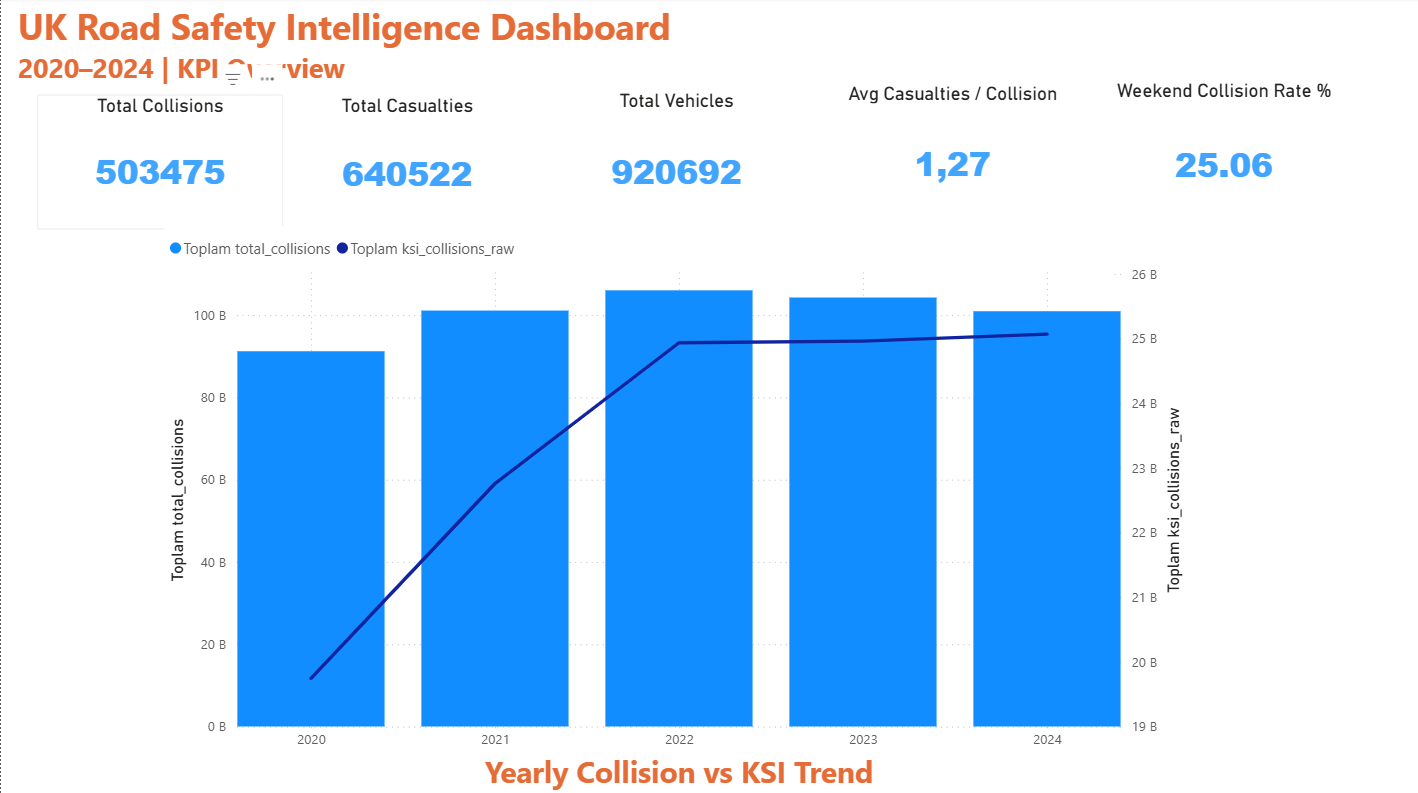

This screenshot's page, from the dashboard's own definition file:
{"tool":"powerbi","page":{"name":"KPI Overview","canvas":[1280,720],"ordinal":0},"visuals":[{"type":"textbox","box":[10.5,0,708.4,91.6],"z":0},{"type":"card","title":"  Total Collisions","fields":{"Values":["Sum(kpi_collision_overview_v1.total_collisions)"]},"box":[32.4,87.8,221.9,121.7],"z":1000},{"type":"card","title":"Total Casualties","fields":{"Values":["Sum(kpi_collision_overview_v1.total_casualties)"]},"box":[254.2,87.8,223.4,124.8],"z":2000},{"type":"card","title":"Total Vehicles","fields":{"Values":["Sum(kpi_collision_overview_v1.total_vehicles)"]},"box":[497.6,83.2,221.9,129.4],"z":3000},{"type":"card","title":"Avg Casualties / Collision","fields":{"Values":["kpi_collision_overview_v1.Avg Casualties Per Collision KPI"]},"box":[747.2,77,221.9,129.4],"z":4000},{"type":"card","title":"Weekend Collision Rate %","fields":{"Values":["Min(kpi_collision_overview_v1.weekend_collision_rate_pct)"]},"box":[992.2,74,221.9,135.6],"z":5000},{"type":"lineStackedColumnComboChart","fields":{"Category":["yearly_severity_trend_v1.collision_year"],"Y":["Sum(yearly_severity_trend_v1.total_collisions)"],"Y2":["Sum(yearly_severity_trend_v1.ksi_collisions_raw)"]},"box":[146.5,206.7,924,513.7],"z":6000}]}

Visuals, with their boxes on the page's 1280x720 design canvas (x1, y1, x2, y2). These are canvas units, not pixel positions in the 1418x793 screenshot, which may show the page scaled, cropped or inside an application window:
textbox: detection(10, 0, 719, 92)
"  Total Collisions" card: detection(32, 88, 254, 210)
"Total Casualties" card: detection(254, 88, 478, 213)
"Total Vehicles" card: detection(498, 83, 720, 213)
"Avg Casualties / Collision" card: detection(747, 77, 969, 206)
"Weekend Collision Rate %" card: detection(992, 74, 1214, 210)
lineStackedColumnComboChart - yearly_severity_trend_v1.collision_year x Sum(yearly_severity_trend_v1.total_collisions): detection(146, 207, 1070, 720)
